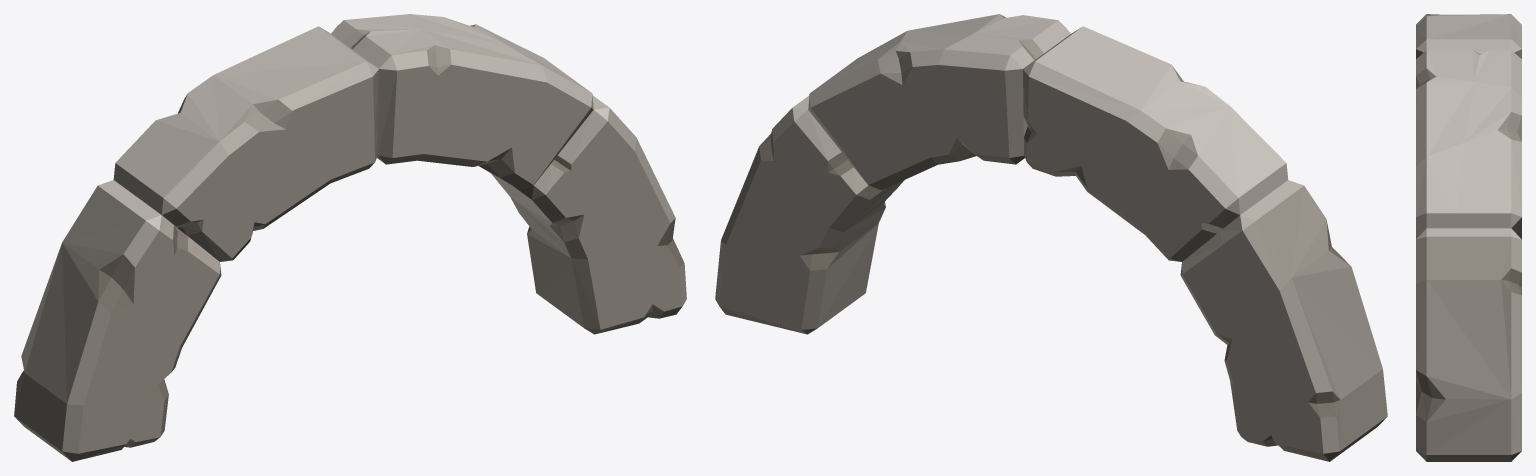
Rendered from m_deco_arch.FBX.
3 renders of one model, left to right at view 1: azimuth 30°, elevation 25°; view 2: azimuth 150°, elevation 25°; view 3: azimuth 270°, elevation 25°, orthographic. The views are drawn at different scales.
Visible parts, largest first — view 1: m_deco_arch; view 2: m_deco_arch; view 3: m_deco_arch.
Boxes of the visible parts, box(x1,y1,x2,y2) form: m_deco_arch: box(14, 14, 686, 461); m_deco_arch: box(715, 14, 1387, 461); m_deco_arch: box(1416, 14, 1521, 461).
Bounding box in the file's own units: 6 × 3.02 × 1.
